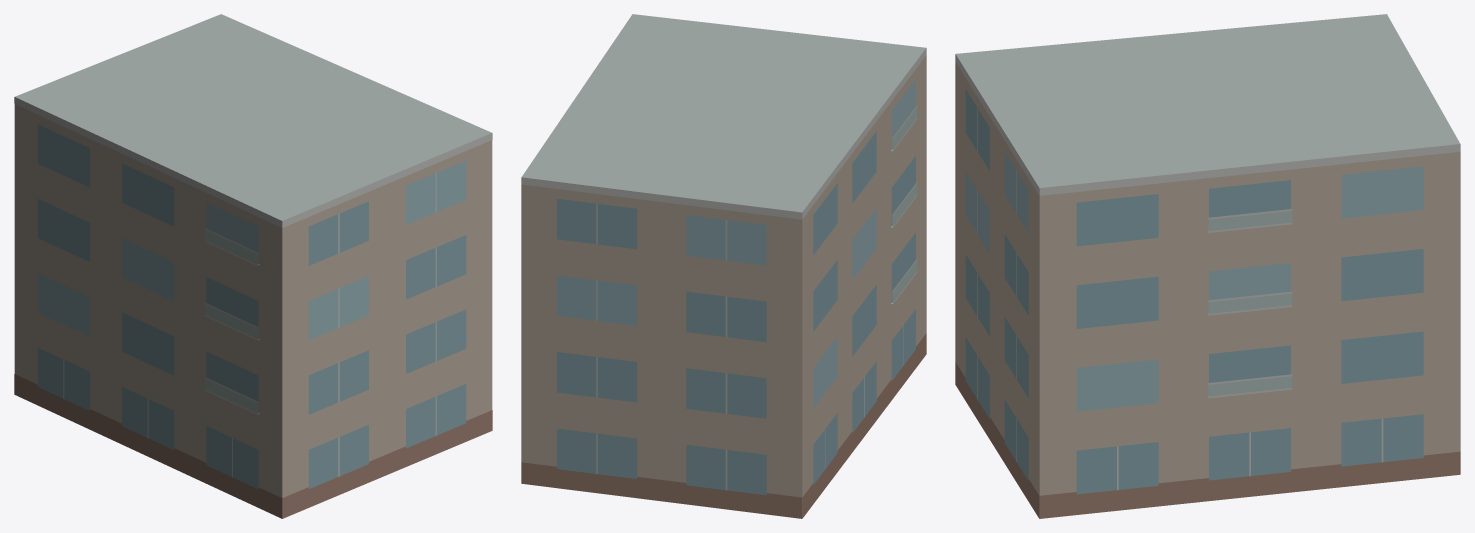
Rendered from survey-upis-32595672.glb.
The picture shows the model from 3 angles, left to right: view 1: azimuth 30°, elevation 25°; view 2: azimuth 150°, elevation 25°; view 3: azimuth 270°, elevation 25°; orthographic projection. The views are drawn at different scales.
Visible parts, largest first — view 1: survey-upis-32595672.tmp; view 2: survey-upis-32595672.tmp; view 3: survey-upis-32595672.tmp.
Boxes of the visible parts, x1,y1,x2,y2 form: survey-upis-32595672.tmp: (14,14,492,518); survey-upis-32595672.tmp: (521,14,926,518); survey-upis-32595672.tmp: (955,14,1460,518).
Size of the model in its own units: 11.76 by 10.4 by 14.41.
